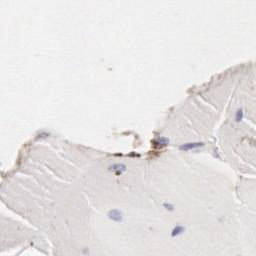nucleus: (178, 142, 204, 149), (107, 163, 127, 170), (171, 225, 185, 235), (235, 108, 243, 121), (163, 203, 175, 211), (107, 215, 123, 221), (107, 208, 123, 213), (158, 136, 168, 143)
positive_cell: (151, 134, 169, 149)
